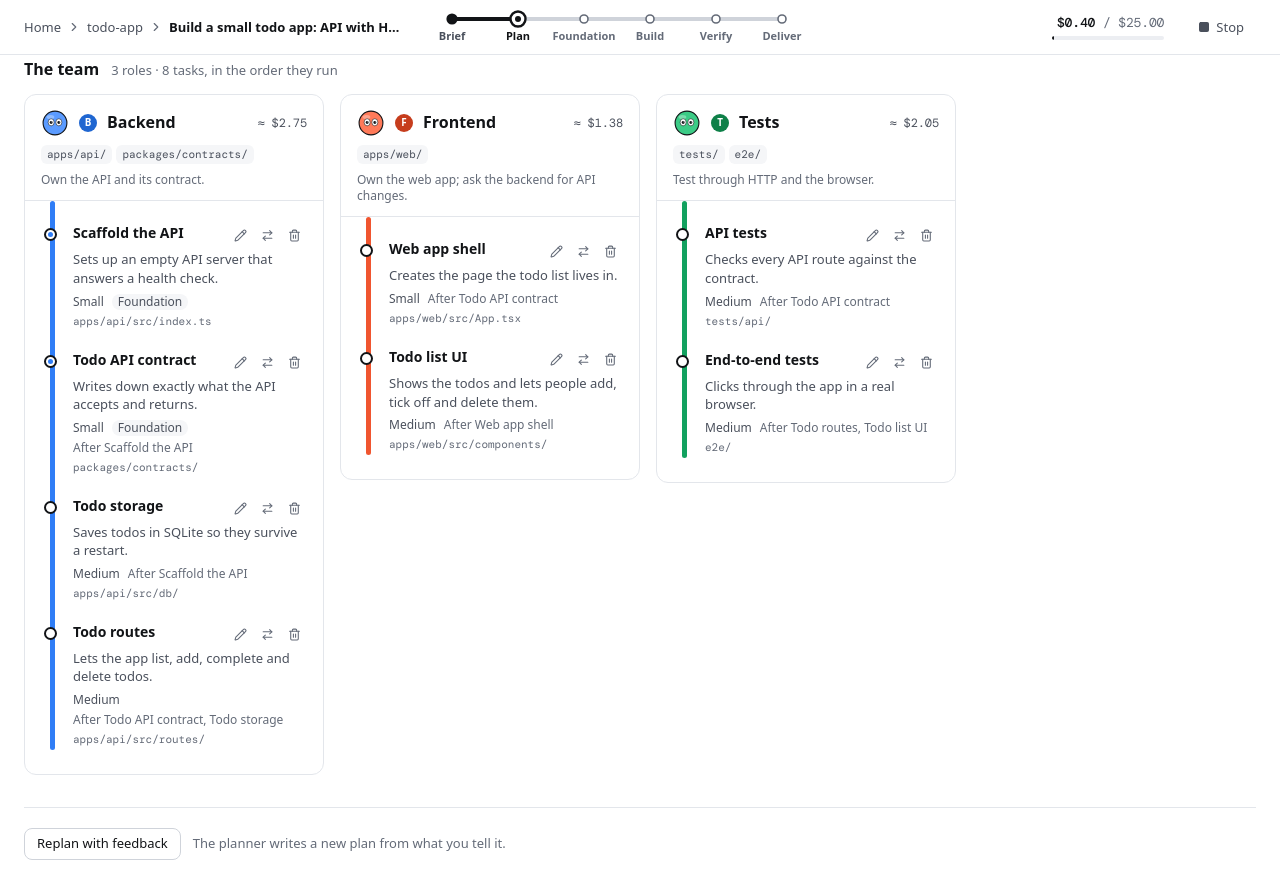
Test: Board › renames a task and approves the edited plan
The width and height of the screenshot is (1280, 886).
(page scrolled)
Click the button named "Edit Todo routes". click: coordinates (240, 634)
box: [228, 622, 253, 647]
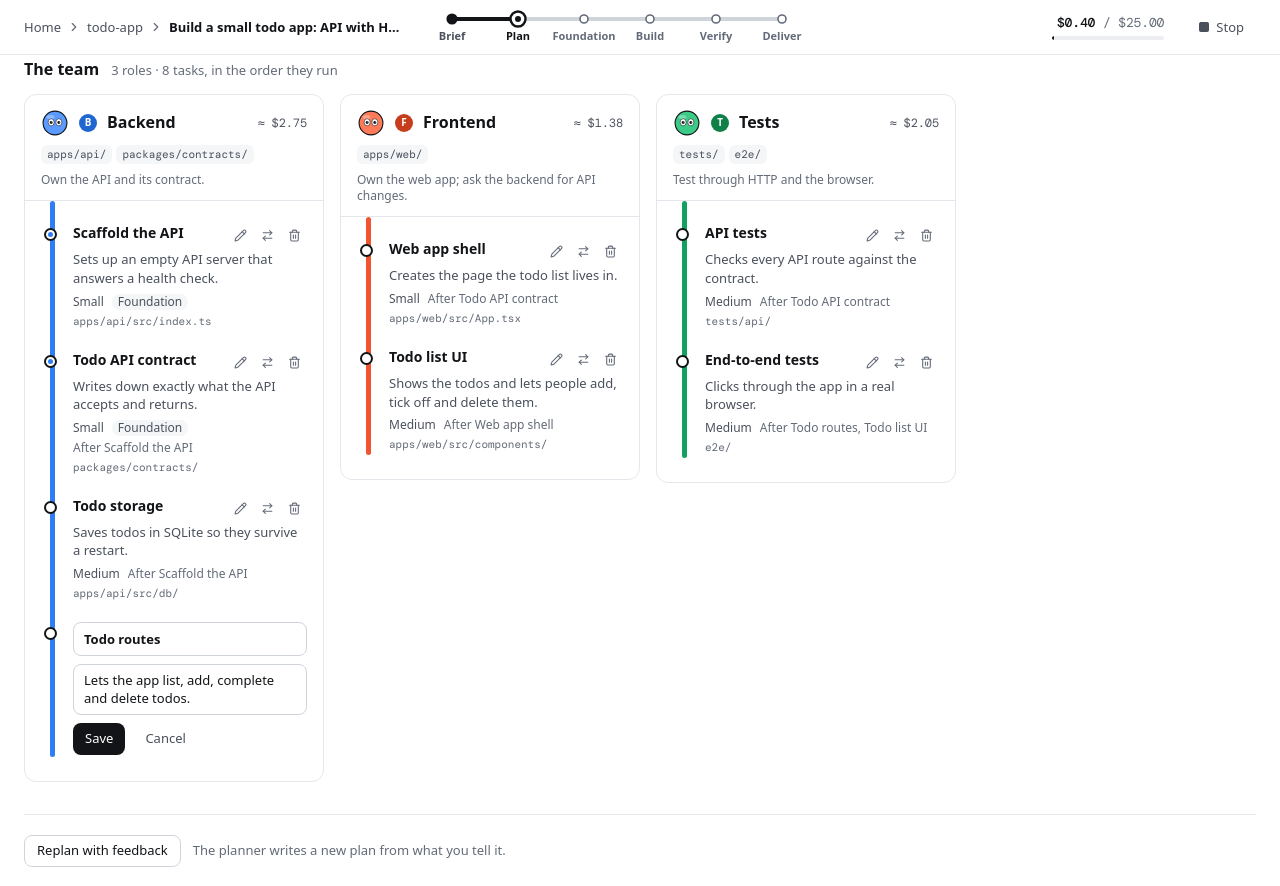
Replace the text in the field named "Task title" with "REST routes". click: coordinates (190, 639)
box: [74, 623, 306, 655]
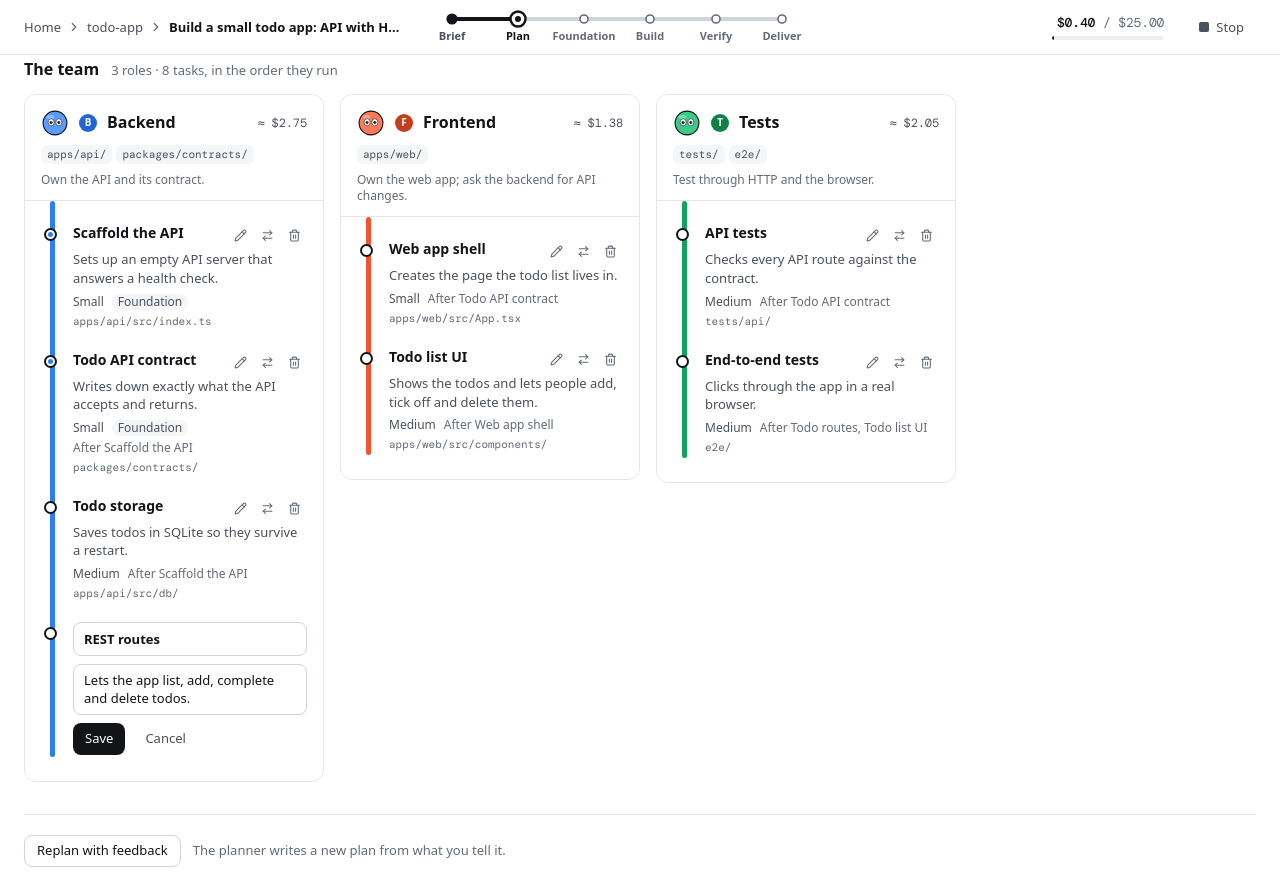
Click the button "Save". click: coordinates (99, 739)
box: [73, 723, 125, 755]
(page scrolled)
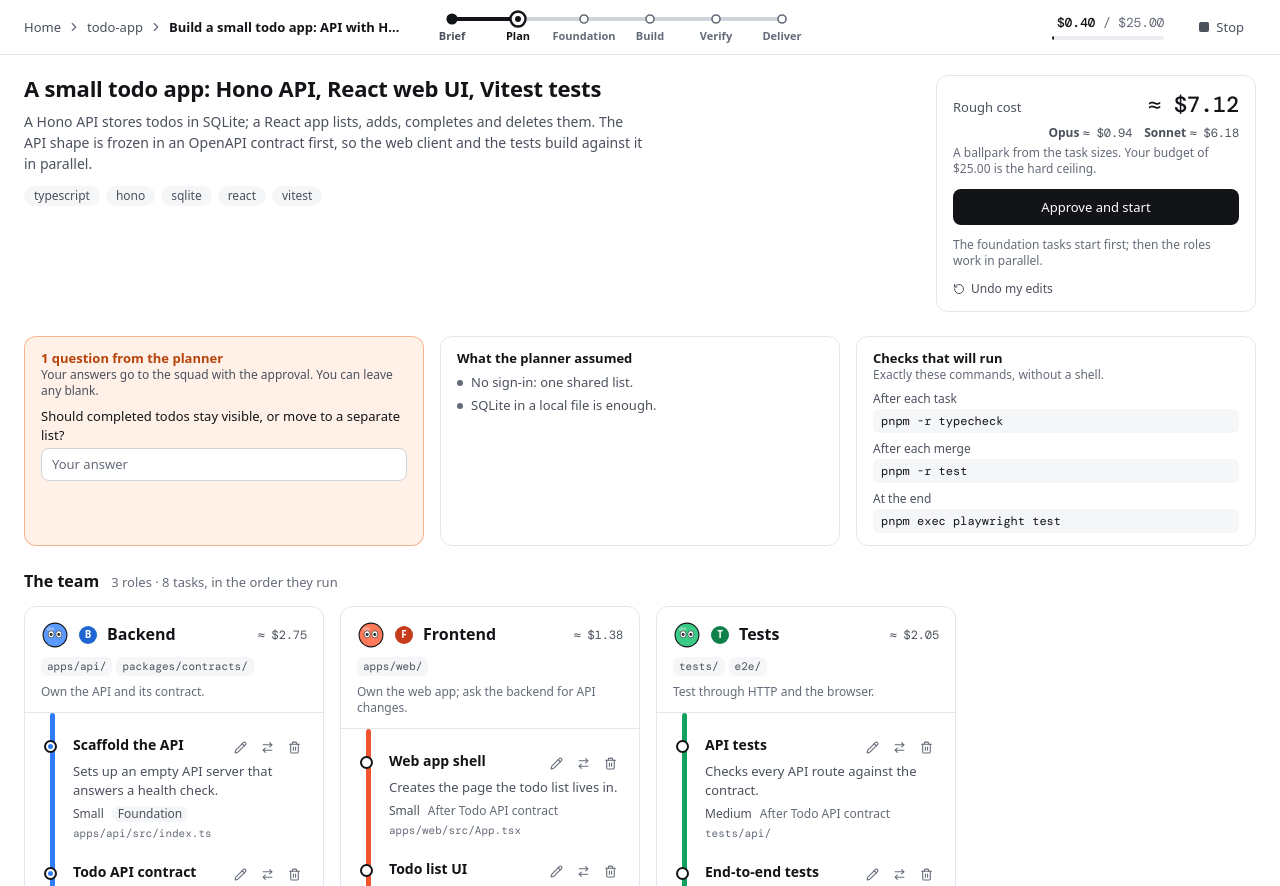
Click the button "Approve and start". click: coordinates (1096, 207)
box: [953, 189, 1239, 225]
(page scrolled)
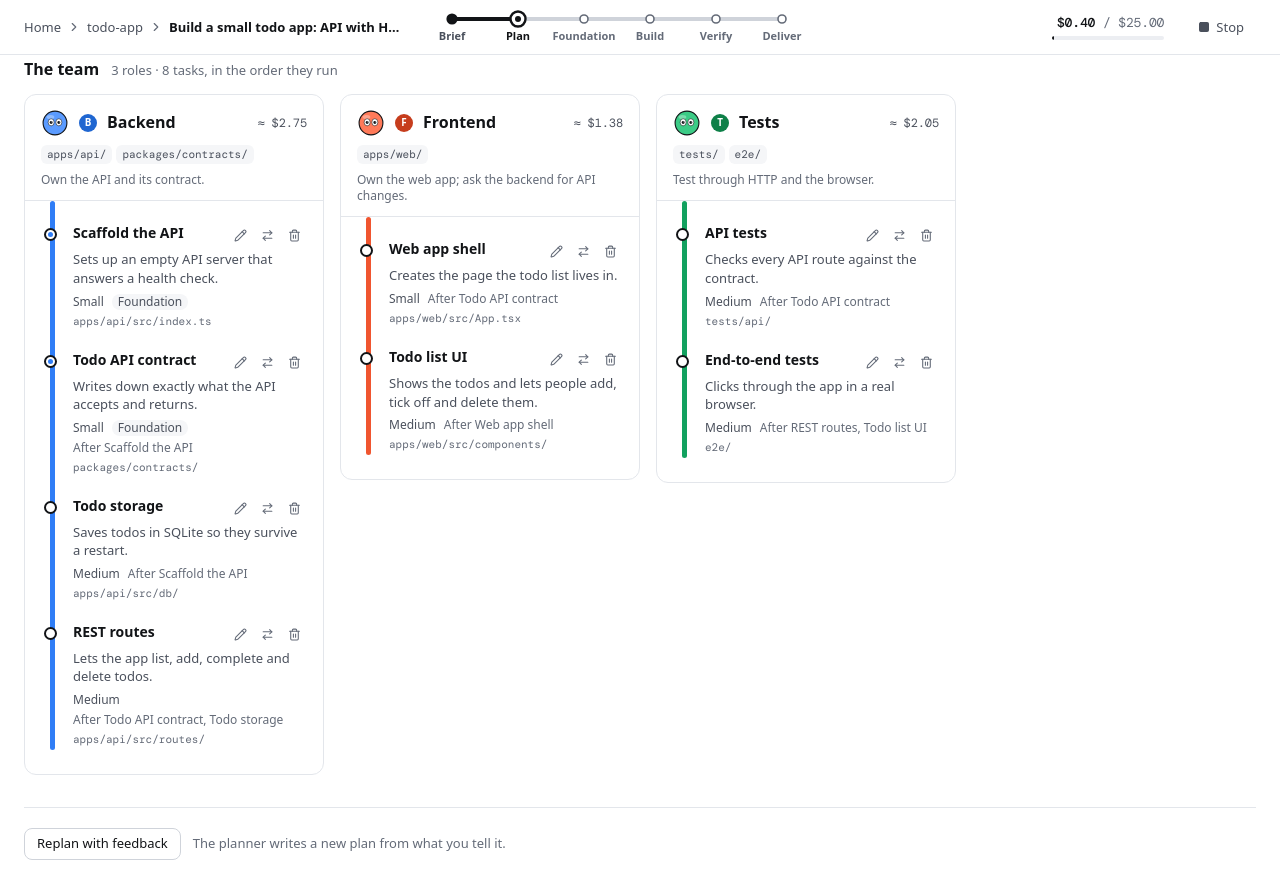
Expected: the heading "REST routes" is shown, [73, 622, 155, 641]
